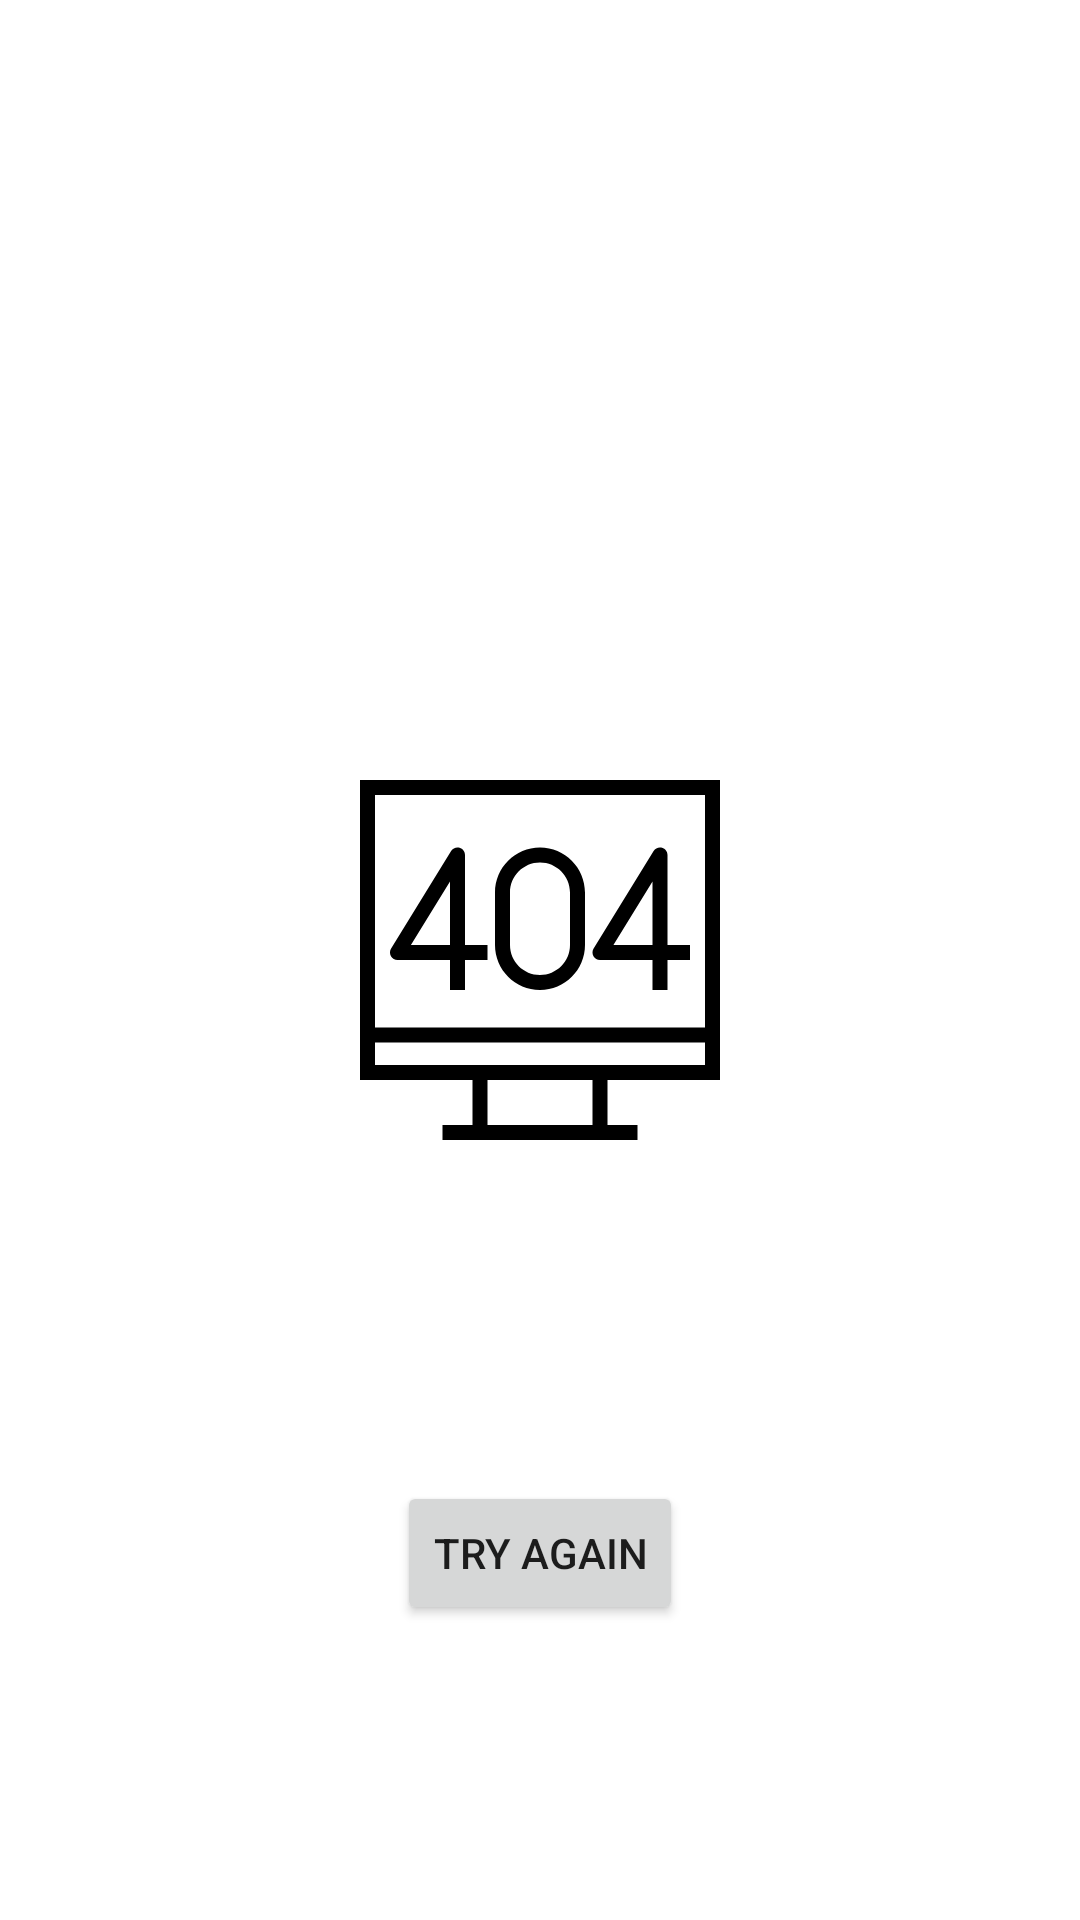

Icons on this 1080*1920 Android screen, each with the point to tap as (x,y):
error: (540,960)
